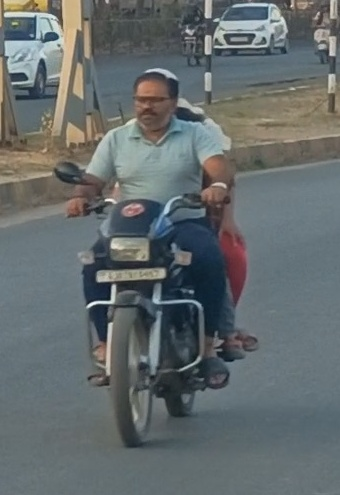BikeWithRider: (45, 63, 265, 452), (172, 0, 208, 69), (307, 1, 335, 66)
NoHelmet: (123, 63, 187, 131)
